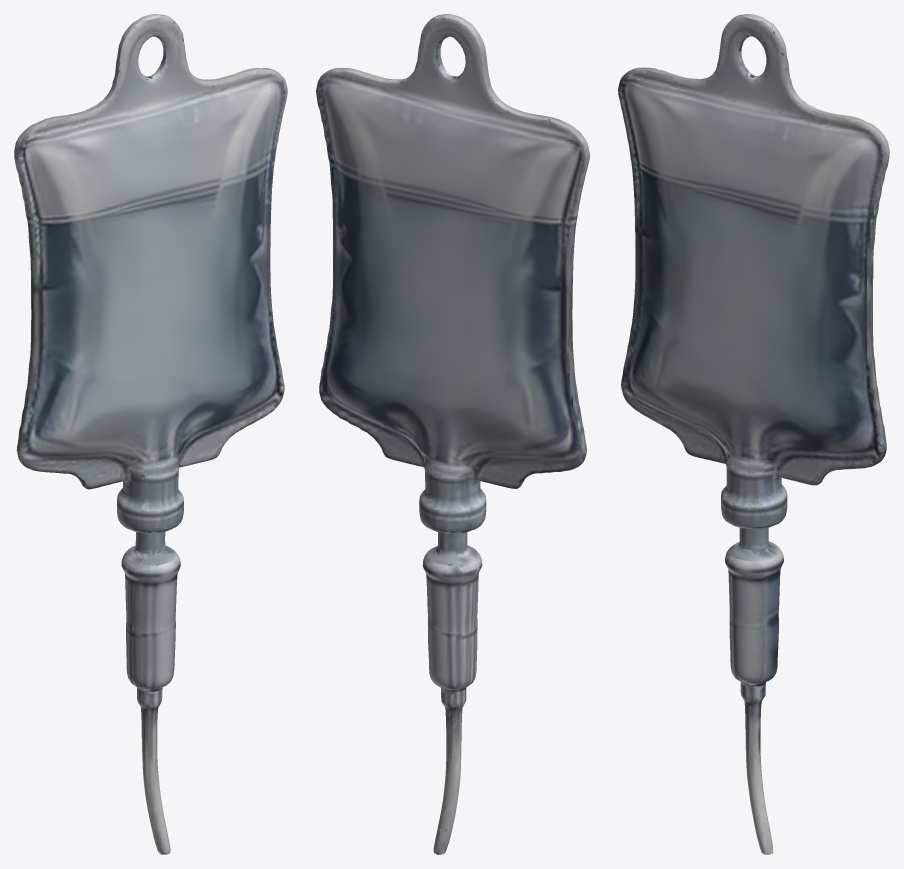
Rendered from Flebo.glb.
3 views of the same model, side by side, from view 1: azimuth 30°, elevation 25°; view 2: azimuth 150°, elevation 25°; view 3: azimuth 330°, elevation 25° (orthographic).
Visible parts, largest first — view 1: tmpvh92fkp8.ply; view 2: tmpvh92fkp8.ply; view 3: tmpvh92fkp8.ply.
Boxes of the visible parts, x1,y1,x2,y2 form: tmpvh92fkp8.ply: [14, 14, 287, 854]; tmpvh92fkp8.ply: [316, 14, 589, 854]; tmpvh92fkp8.ply: [618, 14, 889, 854].
Size of the model in its own units: 0.6617 by 1.96 by 0.1429.
1 material, 1 textured.
